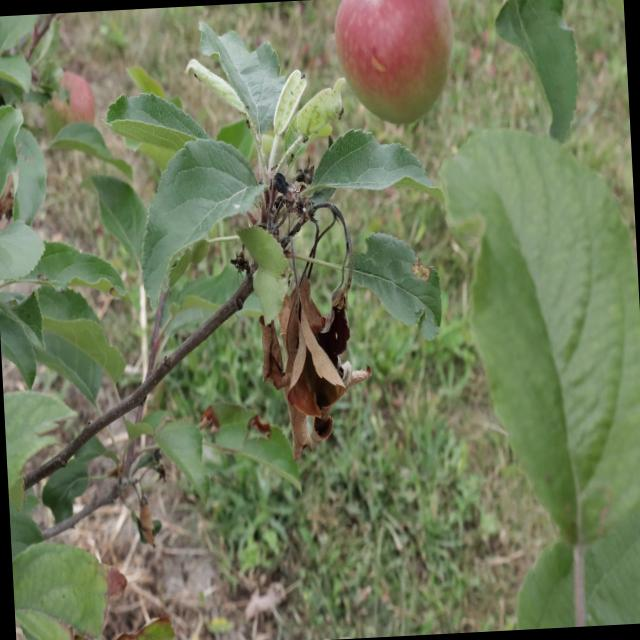-FireBlight-: (230, 196, 366, 456)
